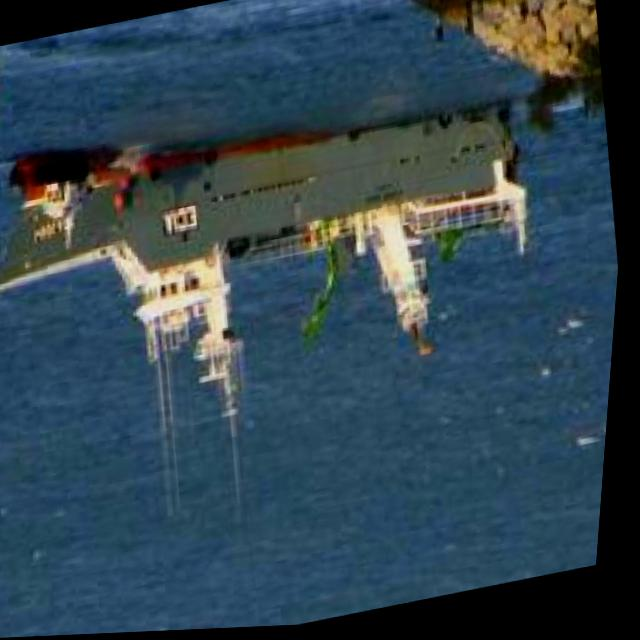ship2: (0, 111, 533, 532)
